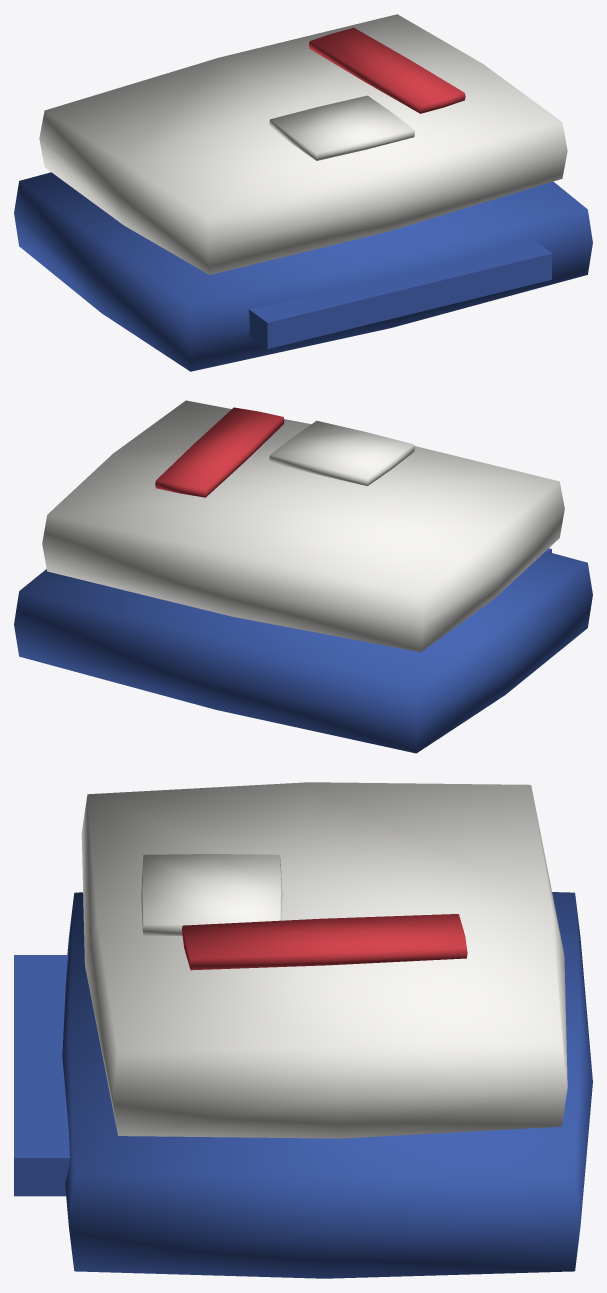
File: school_uniform.glb
The picture shows the model from 3 angles, top to bottom: view 1: azimuth 30°, elevation 25°; view 2: azimuth 150°, elevation 25°; view 3: azimuth 270°, elevation 25°; orthographic projection. The views are drawn at different scales.
Parts seen in each view (by area): view 1: root; view 2: root; view 3: root.
Boxes of the visible parts, <box> form: root: <box>14,14,592,371</box>; root: <box>14,400,592,753</box>; root: <box>14,782,592,1278</box>.
Bounding box in the file's own units: 0.5 × 0.212 × 0.41.
